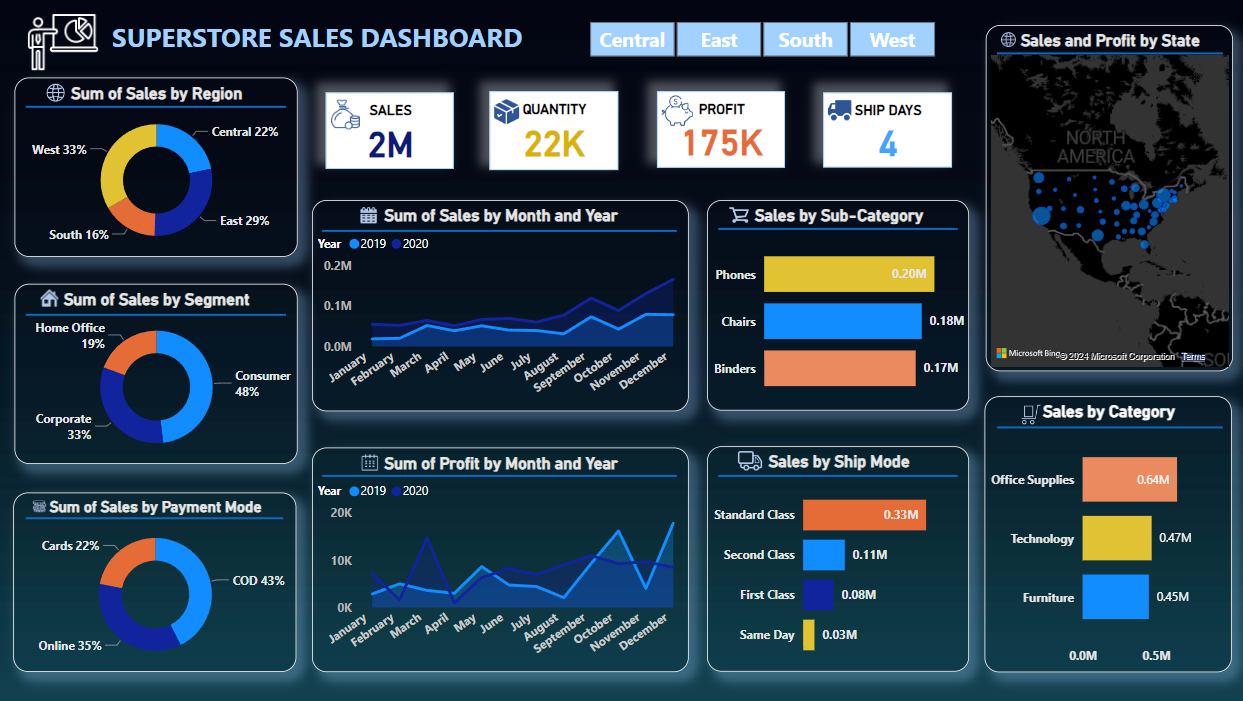

The page's visual inventory and layout, read from the dashboard file:
{"tool":"powerbi","page":{"name":"Page 1","canvas":[1280,720],"ordinal":0},"visuals":[{"type":"clusteredBarChart","title":"Sales by Sub-Category","fields":{"Y":["Sum(SuperStore_Sales_Dataset.Sales)"],"Category":["SuperStore_Sales_Dataset.Sub-Category"]},"box":[728.4,204.9,269.1,216],"z":0},{"type":"clusteredBarChart","title":"Sales by Ship Mode","fields":{"Y":["Sum(SuperStore_Sales_Dataset.Sales)"],"Category":["SuperStore_Sales_Dataset.Ship Mode"]},"box":[728.4,458,269.1,230.9],"z":1000},{"type":"areaChart","fields":{"Y":["Sum(SuperStore_Sales_Dataset.Sales)"],"Series":["SuperStore_Sales_Dataset.Order Date.Variation.Date Hierarchy.Year"],"Category":["SuperStore_Sales_Dataset.Order Date.Variation.Date Hierarchy.Month"]},"box":[323.1,204.6,386.2,216.9],"z":2000},{"type":"areaChart","fields":{"Series":["SuperStore_Sales_Dataset.Order Date.Variation.Date Hierarchy.Year"],"Category":["SuperStore_Sales_Dataset.Order Date.Variation.Date Hierarchy.Month"],"Y":["Sum(SuperStore_Sales_Dataset.Profit)"]},"box":[323.1,458.5,386.2,230.8],"z":3000},{"type":"map","title":"Sales and Profit by State","fields":{"Category":["SuperStore_Sales_Dataset.State"],"Size":["Sum(SuperStore_Sales_Dataset.Sales)"]},"box":[1013.8,26.2,253.8,355],"z":4000},{"type":"donutChart","fields":{"Category":["SuperStore_Sales_Dataset.Segment"],"Y":["Sum(SuperStore_Sales_Dataset.Sales)"]},"box":[17.5,291.2,290,185],"z":5000},{"type":"donutChart","fields":{"Category":["SuperStore_Sales_Dataset.Payment Mode"],"Y":["Sum(SuperStore_Sales_Dataset.Sales)"]},"box":[17.1,504.9,290.2,184.1],"z":6000},{"type":"slicer","fields":{"Values":["SuperStore_Sales_Dataset.Region"]},"box":[581.7,15.9,403.7,47.6],"z":7000},{"type":"card","title":"ORDERS","fields":{"Values":["Sum(SuperStore_Sales_Dataset.Quantity)"]},"box":[504.9,93.9,131.7,80.5],"z":8000},{"type":"card","title":"SALES","fields":{"Values":["Sum(SuperStore_Sales_Dataset.Sales)"]},"box":[337.7,95.3,131.5,78.4],"z":9000},{"type":"card","title":"PROFIT","fields":{"Values":["Sum(SuperStore_Sales_Dataset.Profit)"]},"box":[676.6,94.1,131.5,78.4],"z":10000},{"type":"card","title":"SHIP DAYS","fields":{"Values":["Avg(SuperStore_Sales_Dataset.Avg Delivery)"]},"box":[847.6,95.1,131.7,76.8],"z":11000},{"type":"textbox","box":[108.5,14.6,439,52.4],"z":12000},{"type":"clusteredBarChart","title":"Sales by Category","fields":{"Category":["SuperStore_Sales_Dataset.Category"],"Y":["Sum(SuperStore_Sales_Dataset.Sales)"]},"box":[1013.4,406.1,253.7,282.9],"z":13000},{"type":"donutChart","fields":{"Series":["SuperStore_Sales_Dataset.Region"],"Y":["Sum(SuperStore_Sales_Dataset.Sales)"]},"box":[17.5,80,290,183.8],"z":14000},{"type":"image","box":[334.6,94.9,44.9,39.7],"z":15000},{"type":"image","box":[377.2,225,24.8,9.2],"z":15000,"group":"g1"},{"type":"group","id":"g1","title":"Group 2","box":[333.9,225,363.9,12.8],"z":16000},{"type":"shape","box":[333.9,233.4,363.9,4.4],"z":16000,"group":"g1"},{"type":"shape","box":[740,226.1,245.6,18.3],"z":17000},{"type":"shape","box":[333.9,479.4,363.9,17.2],"z":18000},{"type":"shape","box":[740,478.9,245.6,17.2],"z":19000},{"type":"shape","box":[1025,430,231.7,17.8],"z":20000},{"type":"shape","box":[29,523,264.1,16.9],"z":21000},{"type":"shape","box":[29,101.2,266.9,16.5],"z":22000},{"type":"shape","box":[29,312.5,266.9,20.2],"z":23000},{"type":"image","box":[505.1,92.3,34.6,37.2],"z":24000},{"type":"image","box":[676.8,92.7,41.5,42.7],"z":25000},{"type":"image","box":[847.4,89.7,34.6,42.3],"z":26000},{"type":"image","box":[369,459.8,26.4,27.6],"z":27000},{"type":"image","box":[755.6,454.3,34.6,38.3],"z":28000},{"type":"image","box":[742.5,208,37,26],"z":29000},{"type":"image","box":[1046.2,406.2,28.8,37.5],"z":30000},{"type":"shape","box":[1025,45.6,231.7,17.2],"z":31000},{"type":"image","box":[1021.2,28.8,31.2,25],"z":32000},{"type":"image","box":[46.6,79,27.8,30.7],"z":33000},{"type":"image","box":[39.2,289.8,27.8,31.2],"z":34000},{"type":"image","box":[32.3,507.7,23.8,23.8],"z":35000},{"type":"image","box":[26.8,0,81.7,86.6],"z":36000},{"type":"image","box":[368.5,205,26.9,31.5],"z":37000}]}

Visuals, with their boxes in screenshot pixels (x1, y1, x2, y2), scaled from the page's 1280x720 canvas onto the 1243x701 screenshot:
"Sales by Sub-Category" clusteredBarChart: [707, 199, 969, 410]
"Sales by Ship Mode" clusteredBarChart: [707, 446, 969, 671]
areaChart - Sum(SuperStore_Sales_Dataset.Sales) x SuperStore_Sales_Dataset.Order Date.Variation.Date Hierarchy.Year: [314, 199, 689, 410]
areaChart - SuperStore_Sales_Dataset.Order Date.Variation.Date Hierarchy.Year x SuperStore_Sales_Dataset.Order Date.Variation.Date Hierarchy.Month: [314, 446, 689, 671]
"Sales and Profit by State" map: [984, 26, 1231, 371]
donutChart - SuperStore_Sales_Dataset.Segment x Sum(SuperStore_Sales_Dataset.Sales): [17, 284, 299, 464]
donutChart - SuperStore_Sales_Dataset.Payment Mode x Sum(SuperStore_Sales_Dataset.Sales): [17, 492, 298, 671]
slicer - SuperStore_Sales_Dataset.Region: [565, 15, 957, 62]
"ORDERS" card: [490, 91, 618, 170]
"SALES" card: [328, 93, 456, 169]
"PROFIT" card: [657, 92, 785, 168]
"SHIP DAYS" card: [823, 93, 951, 167]
textbox: [105, 14, 532, 65]
"Sales by Category" clusteredBarChart: [984, 395, 1230, 671]
donutChart - SuperStore_Sales_Dataset.Region x Sum(SuperStore_Sales_Dataset.Sales): [17, 78, 299, 257]
image: [325, 92, 369, 131]
image: [366, 219, 390, 228]
"Group 2" group: [324, 219, 678, 232]
shape: [324, 227, 678, 232]
shape: [719, 220, 957, 238]
shape: [324, 467, 678, 483]
shape: [719, 466, 957, 483]
shape: [995, 419, 1220, 436]
shape: [28, 509, 285, 526]
shape: [28, 99, 287, 115]
shape: [28, 304, 287, 324]
image: [490, 90, 524, 126]
image: [657, 90, 698, 132]
image: [823, 87, 857, 129]
image: [358, 448, 384, 475]
image: [734, 442, 767, 480]
image: [721, 203, 757, 228]
image: [1016, 395, 1044, 432]
shape: [995, 44, 1220, 61]
image: [992, 28, 1022, 52]
image: [45, 77, 72, 107]
image: [38, 282, 65, 313]
image: [31, 494, 54, 517]
image: [26, 0, 105, 84]
image: [358, 200, 384, 230]
